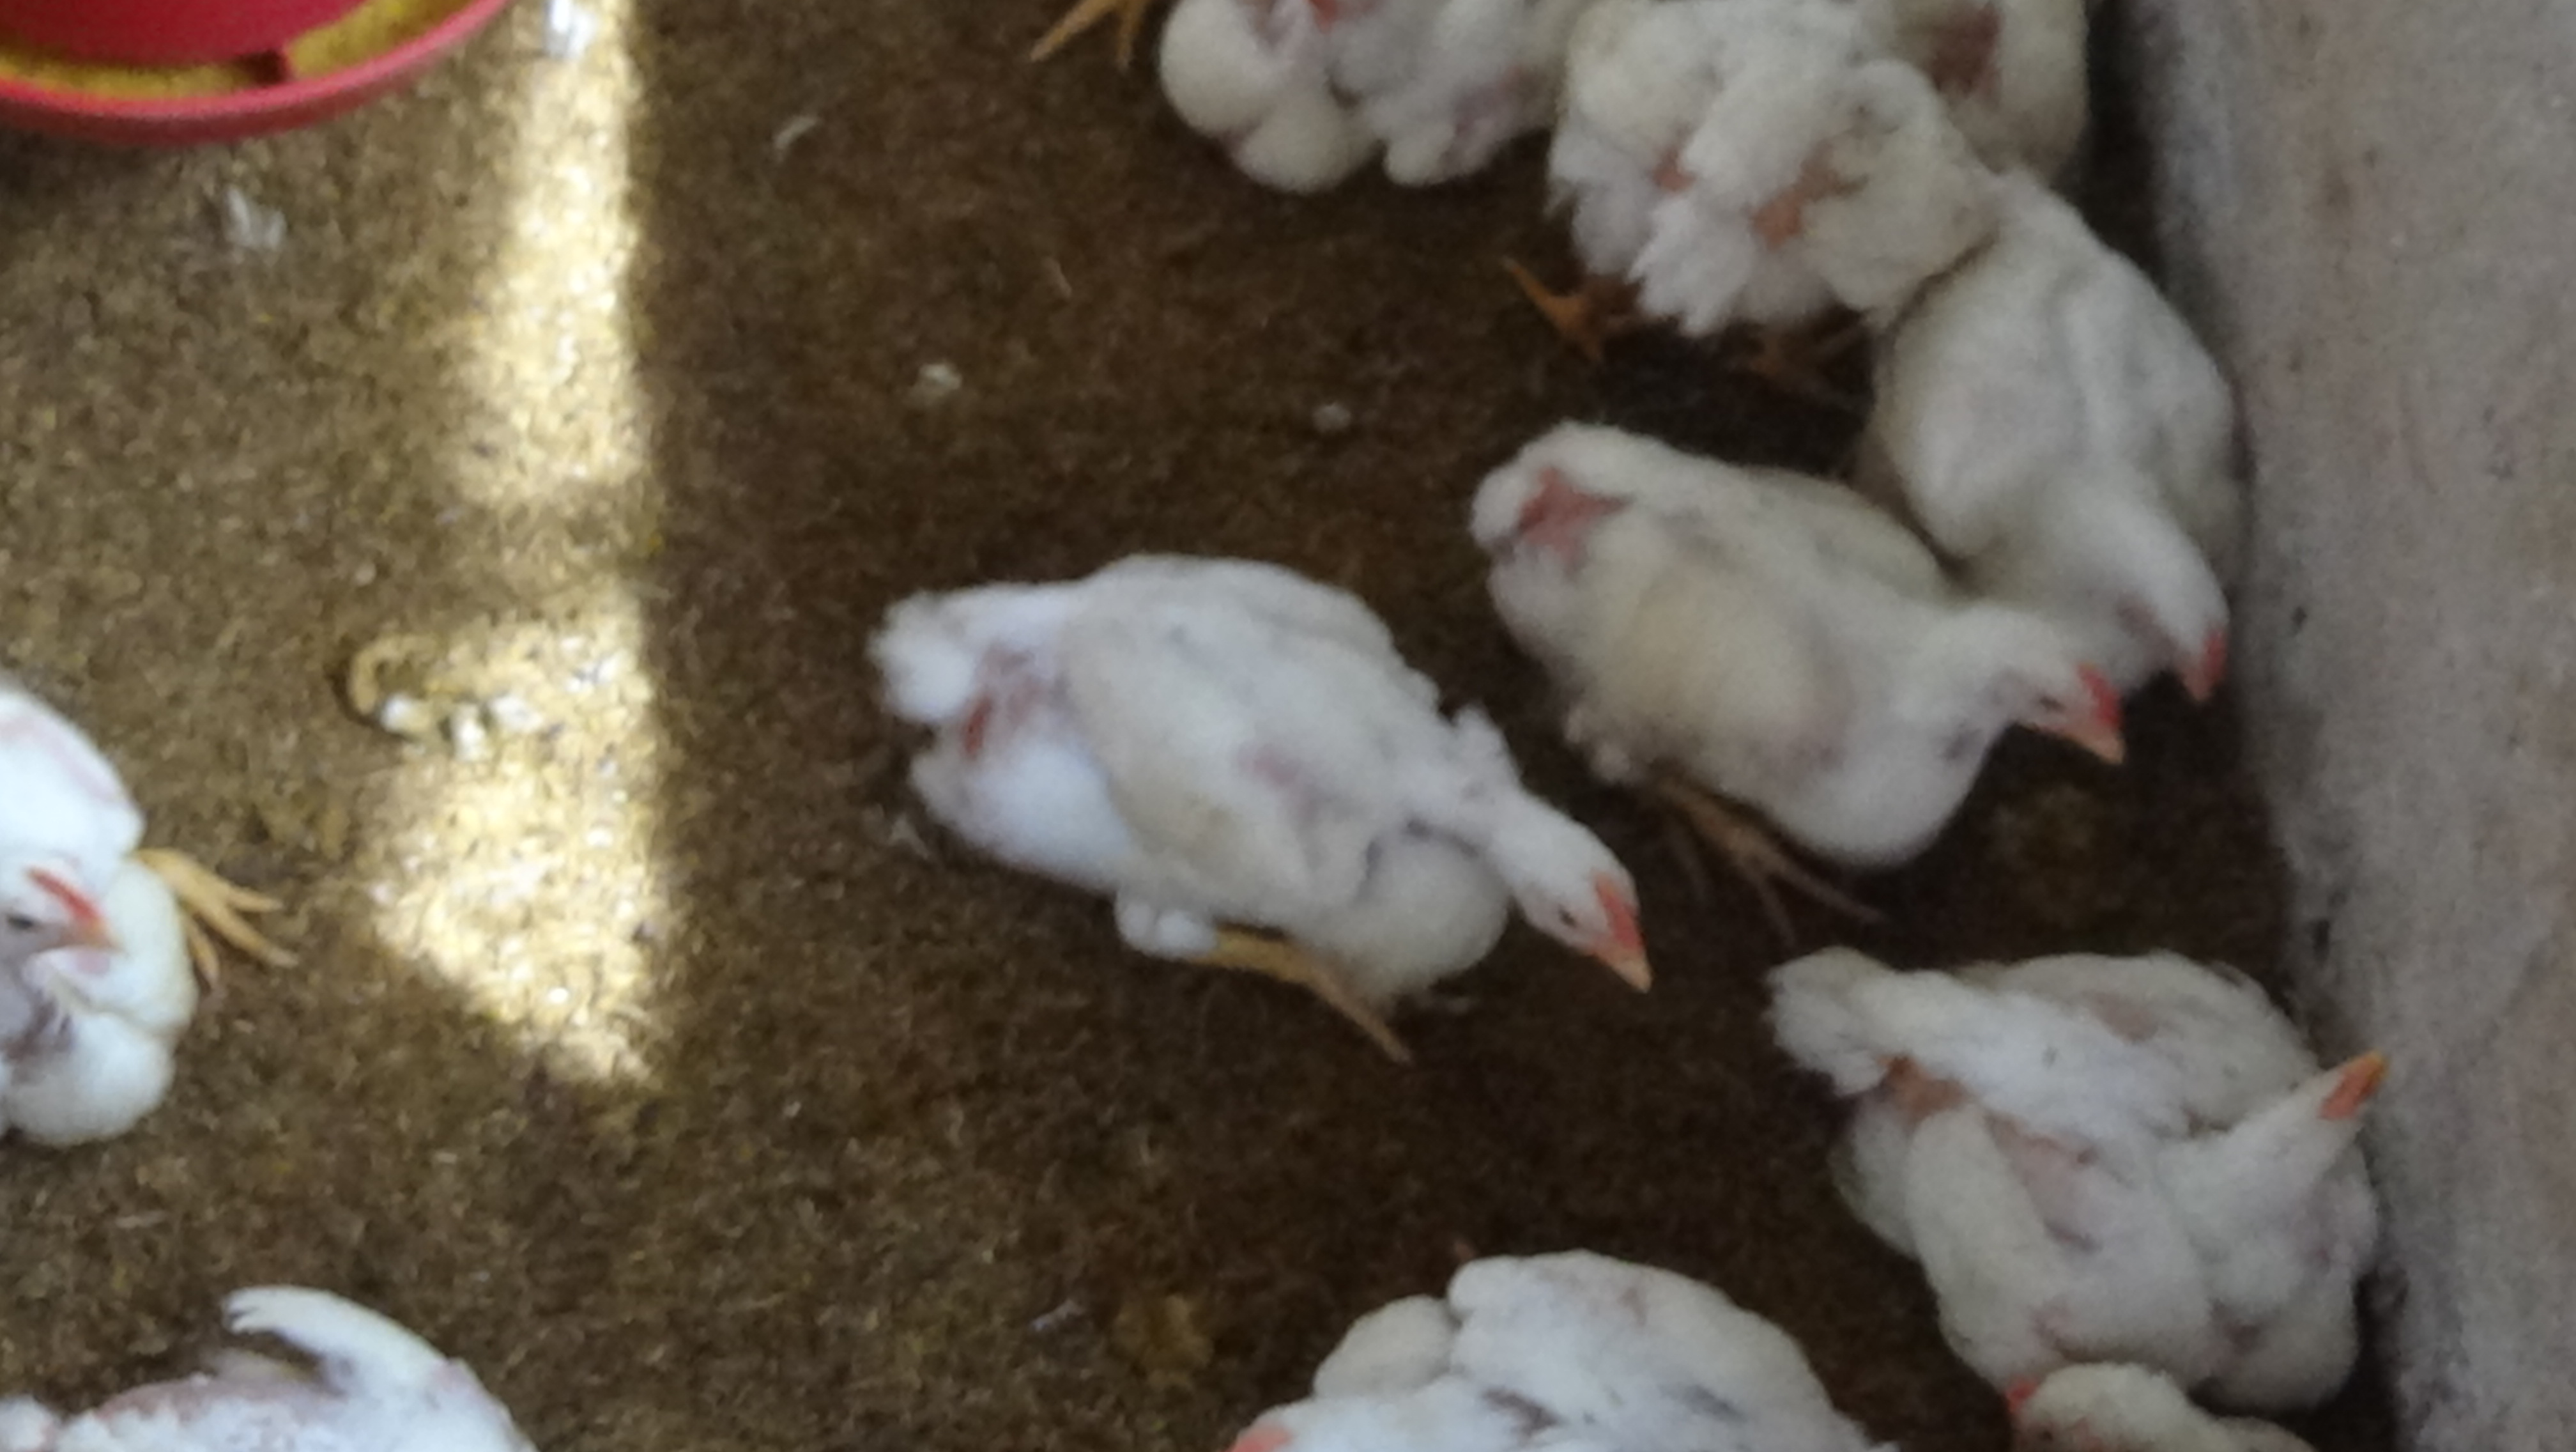Pollos: (851, 538, 1663, 1048), (1762, 836, 2397, 1395), (1474, 429, 2130, 900), (1854, 175, 2316, 692), (1458, 0, 1985, 347), (0, 607, 313, 1158)
